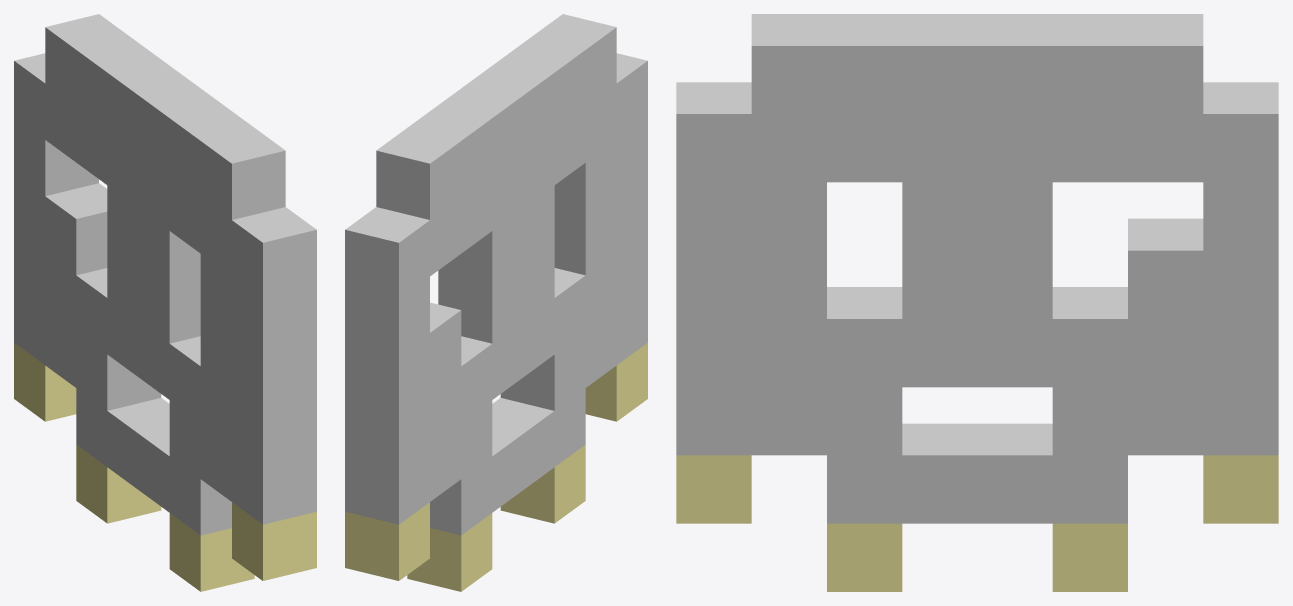
The model's file is AA_Enemy_SkrullLeft.fbx.
3 renders of one model, left to right at view 1: azimuth 30°, elevation 25°; view 2: azimuth 150°, elevation 25°; view 3: azimuth 270°, elevation 25°, orthographic. The views are drawn at different scales.
Parts seen in each view (by area): view 1: Cube.021, Cube.017, Cube.117, Cube.008, Cube.004, Cube.002, Cube.009, Cube.001, Cube.013, Cube.114, Cube.082, Cube.081 (+35 smaller); view 2: Cube.015, Cube.003, Cube.011, Cube.007, Cube.006, Cube.010, Cube.000, Cube.115, Cube.005, Cube.112, Cube.084, Cube.083 (+35 smaller); view 3: Cube.017, Cube.003, Cube.019, Cube.117, Cube.046, Cube.043, Cube.018, Cube.021, Cube.015, Cube.084, Cube.083, Cube.082 (+35 smaller).
Part boxes in pixels (x1,y1,x2,y2): Cube.021: (200,128,285,219); Cube.017: (232,207,316,298); Cube.117: (45,183,107,275); Cube.008: (232,446,316,524); Cube.004: (232,277,316,355); Cube.002: (232,333,316,411); Cube.009: (232,502,316,580); Cube.001: (232,389,316,468); Cube.013: (169,513,254,591); Cube.114: (138,265,200,343); Cube.082: (138,82,222,174); Cube.081: (169,105,254,196); Cube.015: (376,128,461,219); Cube.003: (345,207,429,298); Cube.011: (345,446,429,524); Cube.007: (345,277,429,355); Cube.006: (345,333,429,411); Cube.010: (345,502,429,580); Cube.000: (345,389,429,468); Cube.115: (438,265,523,343); Cube.005: (407,513,492,591); Cube.112: (554,196,616,275); Cube.084: (407,105,492,196); Cube.083: (439,82,523,174); Cube.017: (676,82,751,182); Cube.003: (1203,82,1278,182); Cube.019: (977,423,1052,523); Cube.117: (1128,218,1203,318); Cube.046: (827,287,902,387); Cube.043: (1052,287,1127,387); Cube.018: (902,423,977,523); Cube.021: (751,14,826,113); Cube.015: (1128,14,1203,113); Cube.084: (1052,14,1127,113); Cube.083: (977,14,1052,113); Cube.082: (902,14,977,113).
Bounding box in the file's own units: 200 × 1600 × 1600.
